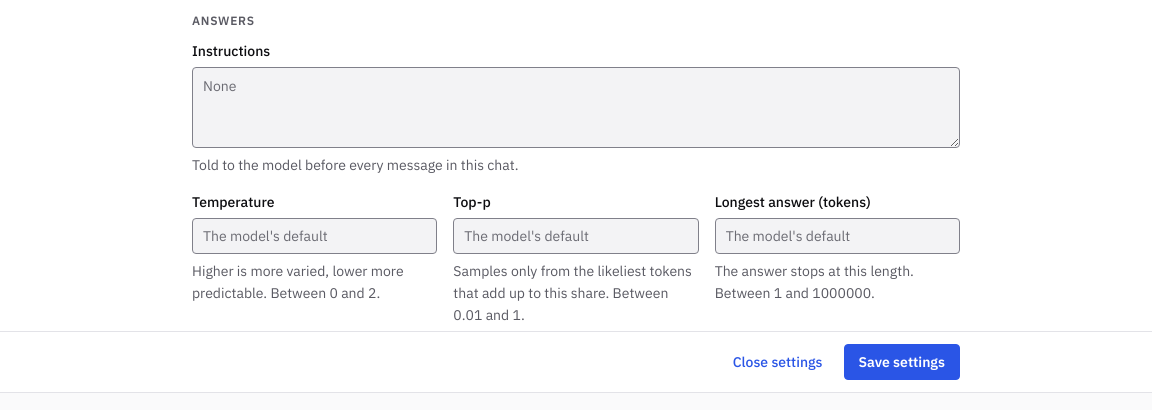
Test: a number out of range › takes the mark away when the number is mended and saved
Type "9" into the field labelled "Temperature" at coordinates (315, 236), box [192,218,437,254]
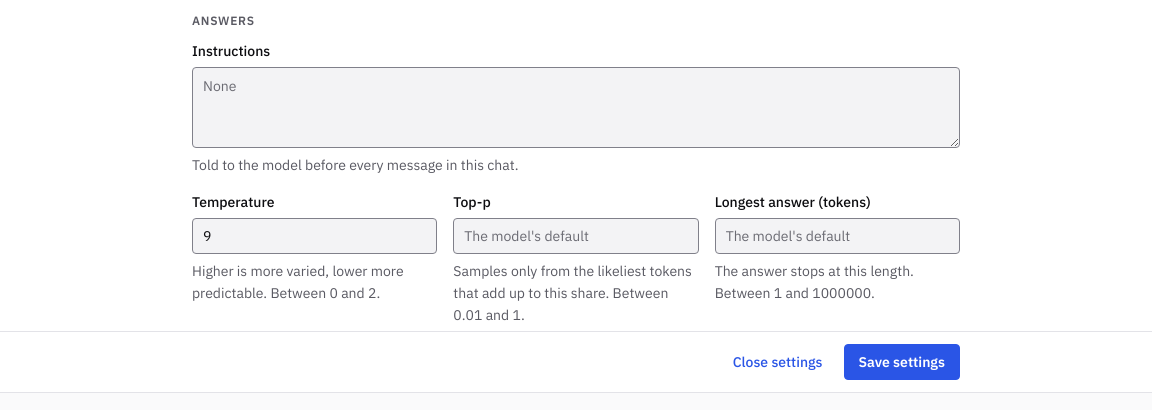
Click the button "Save settings" at coordinates (902, 362), box [844,344,960,380]
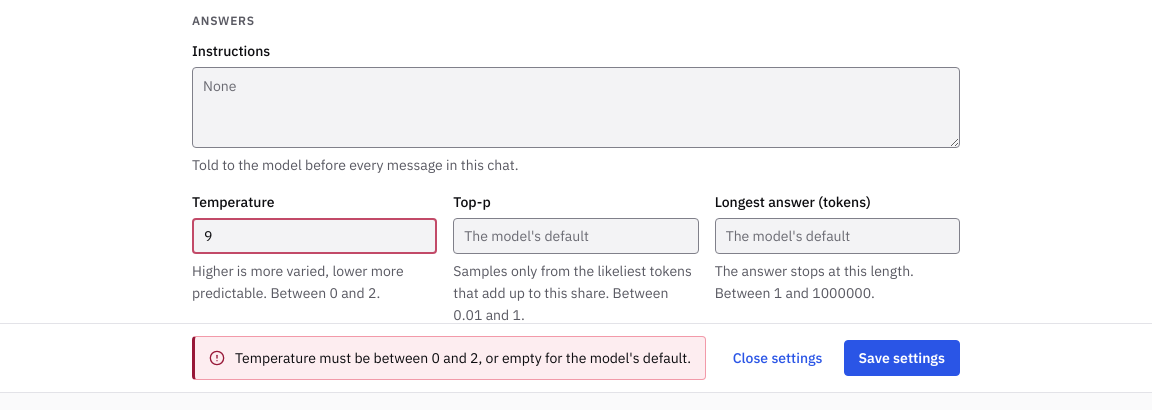
Check: the message "Temperature must be between 0 and 2, or empty for the model's default." is shown, box [192,336,706,380]
Replace the text in the field labelled "Temperature" with "1.5" at coordinates (315, 236), box [192,218,437,254]
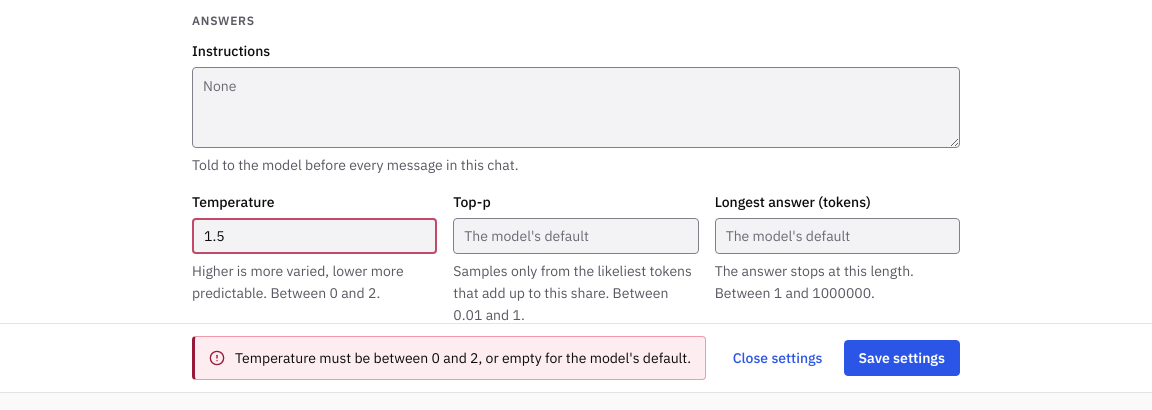
Click the button "Save settings" at coordinates (902, 358), box [844,340,960,376]
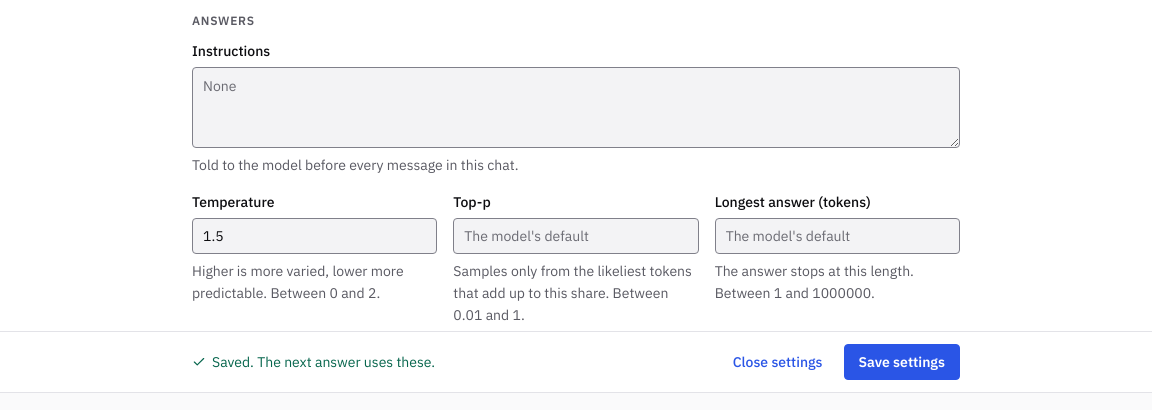
Check: the message shows "Saved.", box [212,353,435,371]
